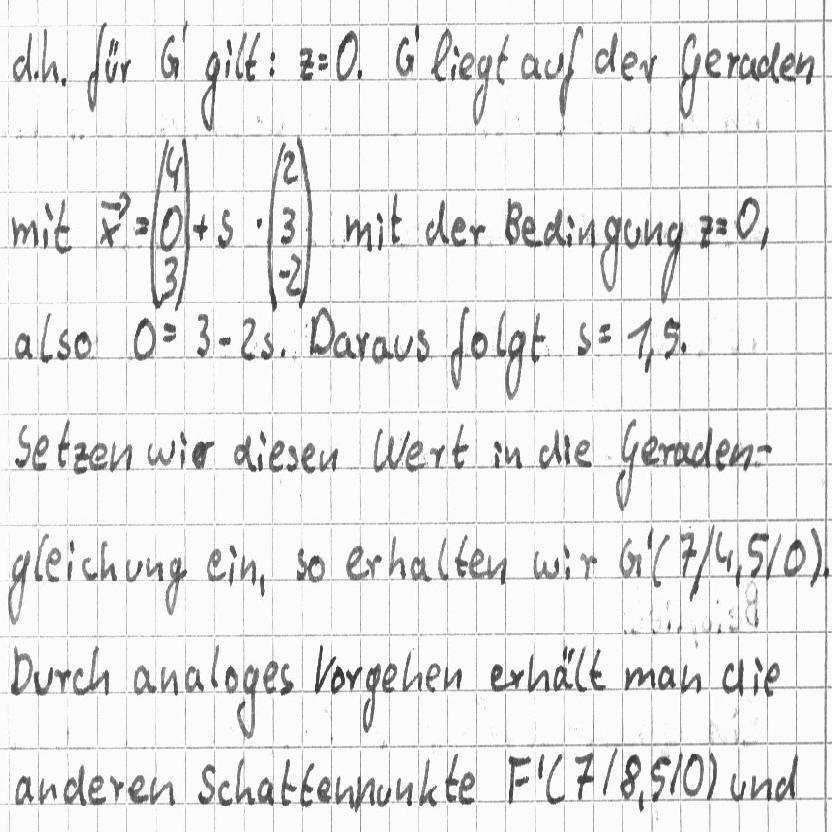Char: (296, 134, 317, 311), (155, 187, 185, 300), (557, 27, 586, 123), (178, 134, 193, 310), (612, 419, 637, 512), (676, 29, 700, 124), (658, 217, 683, 305), (84, 20, 107, 114), (4, 548, 31, 626), (598, 213, 621, 294), (198, 48, 220, 131), (444, 307, 467, 386), (502, 327, 526, 400), (692, 523, 714, 599), (236, 664, 257, 740), (96, 193, 127, 244), (360, 662, 382, 733), (472, 52, 492, 125), (7, 642, 33, 698), (333, 29, 359, 83), (306, 305, 333, 357), (52, 197, 75, 254), (505, 751, 530, 803), (423, 197, 449, 246), (625, 313, 652, 360), (164, 557, 186, 614), (647, 529, 669, 586), (373, 425, 398, 475), (87, 643, 111, 695), (130, 316, 157, 362), (808, 525, 828, 586), (593, 28, 617, 78), (428, 26, 449, 82), (774, 751, 798, 800), (734, 196, 760, 241), (544, 753, 566, 806), (11, 28, 33, 81), (311, 640, 332, 695), (284, 251, 305, 305), (573, 748, 594, 801), (417, 755, 438, 808), (344, 211, 371, 252), (746, 531, 769, 579), (619, 533, 643, 578), (756, 41, 781, 84), (40, 25, 58, 84), (619, 753, 641, 801), (159, 31, 180, 81), (529, 310, 547, 366), (278, 202, 299, 250), (494, 31, 512, 86), (527, 648, 549, 693), (244, 30, 263, 82), (265, 257, 283, 311), (599, 747, 618, 798), (681, 752, 702, 798), (783, 535, 805, 578), (193, 311, 213, 358), (443, 750, 460, 805), (552, 642, 571, 691), (395, 27, 414, 76), (648, 752, 667, 801), (147, 435, 175, 468), (623, 663, 656, 691), (63, 766, 85, 808), (678, 526, 696, 577), (12, 422, 31, 470), (763, 532, 782, 580), (352, 774, 376, 812), (692, 422, 712, 467), (278, 145, 298, 190), (38, 309, 54, 365), (238, 314, 257, 361), (451, 422, 470, 469), (502, 197, 521, 244), (660, 314, 679, 361), (720, 658, 744, 695), (400, 649, 421, 691), (197, 760, 215, 809), (386, 534, 405, 580), (234, 758, 252, 806), (215, 207, 235, 250), (11, 215, 37, 248), (533, 550, 559, 583), (163, 145, 182, 190), (148, 775, 173, 809), (279, 758, 297, 805), (98, 536, 116, 581), (574, 641, 589, 695), (536, 431, 557, 469), (33, 530, 48, 583), (587, 646, 605, 690), (55, 419, 71, 468), (404, 432, 423, 473), (344, 544, 365, 581), (232, 434, 253, 471), (390, 193, 404, 247), (109, 441, 133, 472), (714, 534, 732, 575), (679, 662, 701, 695), (522, 214, 543, 248), (159, 664, 181, 696), (730, 440, 752, 472), (544, 211, 564, 246), (487, 552, 507, 587), (233, 29, 246, 82), (695, 212, 713, 250), (37, 776, 59, 807), (205, 548, 225, 582), (454, 532, 469, 577), (391, 331, 412, 363), (575, 320, 593, 357), (40, 200, 53, 251), (192, 440, 214, 470), (436, 533, 450, 580), (705, 752, 719, 799), (104, 36, 118, 83), (668, 751, 682, 798), (132, 664, 153, 695), (620, 47, 638, 83), (749, 774, 773, 801), (45, 546, 63, 582), (495, 306, 507, 360), (15, 330, 35, 362), (14, 774, 34, 806), (642, 217, 664, 246), (71, 439, 89, 474), (796, 52, 815, 85), (369, 333, 389, 364), (738, 49, 758, 80), (577, 552, 599, 580), (317, 445, 339, 473), (542, 50, 564, 78), (333, 330, 355, 358), (32, 435, 49, 471), (702, 46, 721, 78), (301, 763, 315, 806), (411, 552, 431, 582), (623, 216, 641, 249), (238, 552, 256, 585), (394, 776, 413, 807), (73, 328, 92, 359), (333, 775, 352, 806), (208, 644, 221, 689), (763, 661, 779, 697), (574, 438, 593, 468), (641, 436, 660, 466), (185, 664, 204, 694), (577, 218, 596, 248), (519, 51, 538, 81), (458, 772, 475, 805), (268, 439, 285, 472), (128, 774, 146, 805), (88, 774, 106, 805), (457, 50, 475, 81), (175, 429, 188, 471), (263, 659, 278, 695), (257, 776, 275, 806), (414, 326, 429, 362), (443, 665, 463, 692), (89, 441, 107, 471), (278, 661, 293, 697), (753, 441, 773, 468), (161, 318, 181, 345), (301, 441, 317, 474), (450, 216, 467, 247), (639, 53, 656, 84), (116, 54, 133, 85), (35, 666, 53, 695), (657, 664, 677, 690), (144, 555, 164, 581), (671, 441, 691, 467), (193, 212, 209, 244), (352, 328, 367, 362), (308, 554, 325, 584), (717, 602, 734, 632), (72, 663, 87, 697), (506, 442, 524, 470), (298, 48, 314, 79), (428, 443, 447, 469), (54, 664, 71, 693), (469, 219, 487, 246), (657, 439, 675, 466), (751, 657, 763, 697), (56, 328, 71, 360), (329, 664, 345, 694), (80, 555, 97, 583), (124, 557, 143, 582), (285, 443, 300, 474), (374, 210, 385, 252), (715, 437, 729, 470), (222, 37, 233, 79), (472, 329, 486, 362), (489, 664, 506, 691), (132, 214, 151, 238), (425, 663, 440, 693), (367, 552, 383, 580), (595, 321, 614, 344), (382, 663, 397, 692), (780, 53, 795, 82), (109, 776, 124, 805), (223, 664, 238, 693), (725, 49, 739, 80), (376, 780, 392, 807), (226, 544, 236, 587), (256, 429, 266, 472), (259, 332, 274, 360), (66, 540, 76, 582), (561, 544, 572, 582), (347, 665, 363, 691), (449, 43, 459, 84), (295, 547, 307, 581), (729, 775, 746, 799), (217, 779, 232, 806), (560, 434, 572, 467), (317, 776, 331, 804), (471, 549, 484, 579), (507, 667, 523, 691), (491, 440, 505, 467), (642, 346, 656, 373), (662, 603, 674, 633), (733, 562, 745, 592), (757, 224, 770, 251), (566, 213, 576, 248), (276, 337, 291, 360), (266, 48, 278, 76), (178, 18, 190, 46), (411, 22, 423, 49), (714, 215, 728, 238), (314, 49, 328, 71), (251, 213, 266, 232), (257, 570, 267, 598), (217, 333, 233, 350), (535, 751, 544, 780), (58, 73, 71, 92), (624, 620, 638, 637), (636, 788, 645, 812), (354, 66, 364, 84), (31, 66, 40, 82), (680, 339, 687, 354)
